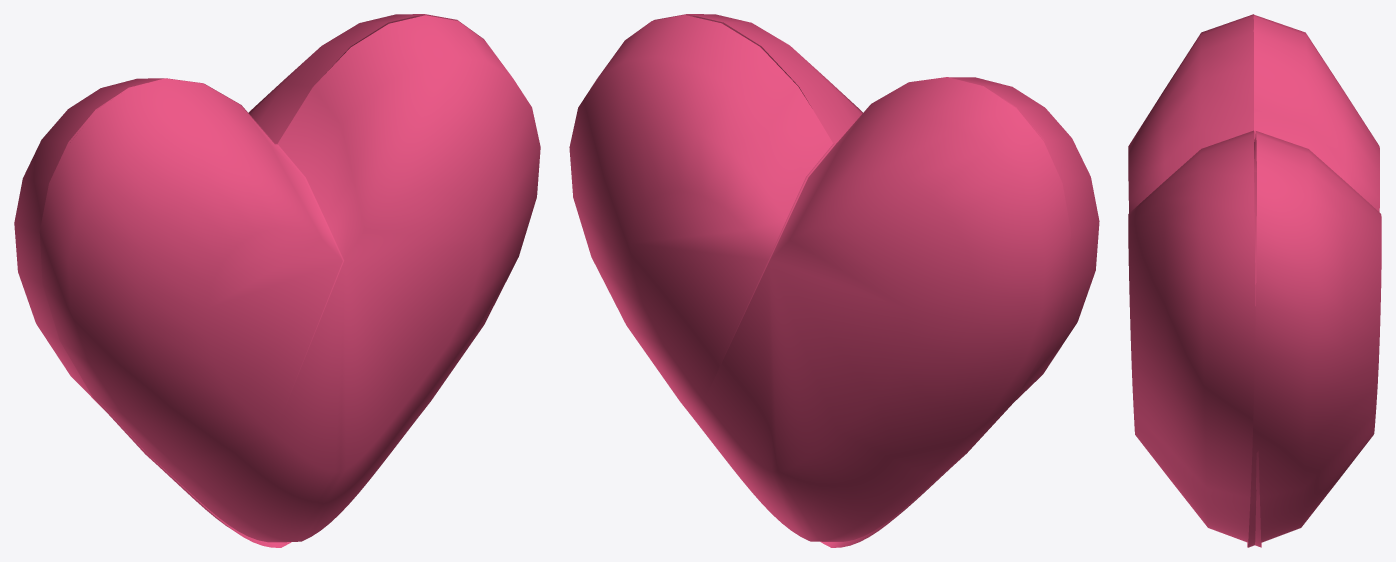
Rendered from heart_anima†ion_stable.glb.
The picture shows the model from 3 angles, left to right: view 1: azimuth 30°, elevation 25°; view 2: azimuth 150°, elevation 25°; view 3: azimuth 270°, elevation 25°; orthographic projection. The views are drawn at different scales.
Visible parts, largest first — view 1: obj_0.001; view 2: obj_0.001; view 3: obj_0.001.
Part boxes in pixels (<box>): obj_0.001: <box>14,14,540,547</box>; obj_0.001: <box>569,14,1099,547</box>; obj_0.001: <box>1128,14,1381,547</box>.
Size of the model in its own units: 7.51 by 7.5 by 3.73.
